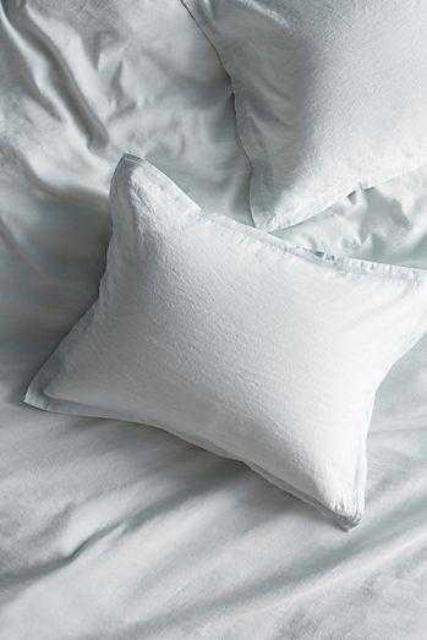pillow: (20, 152, 426, 530)
